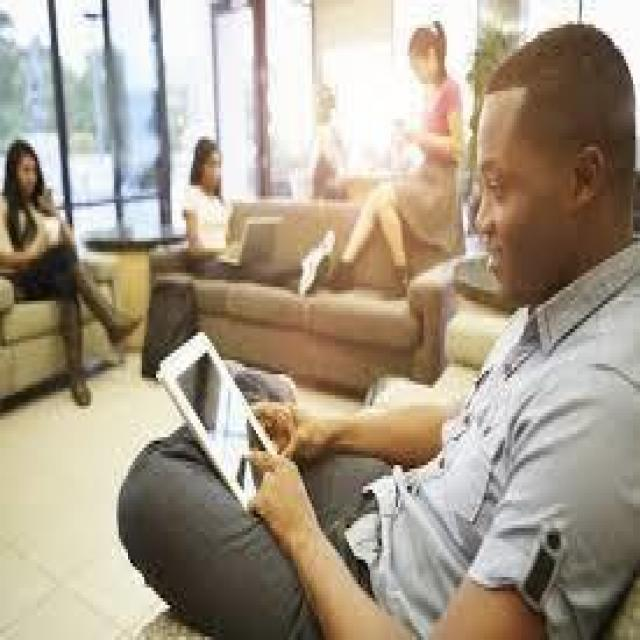person: (225, 38, 638, 619), (344, 10, 491, 322), (0, 109, 140, 402), (177, 122, 349, 332)
